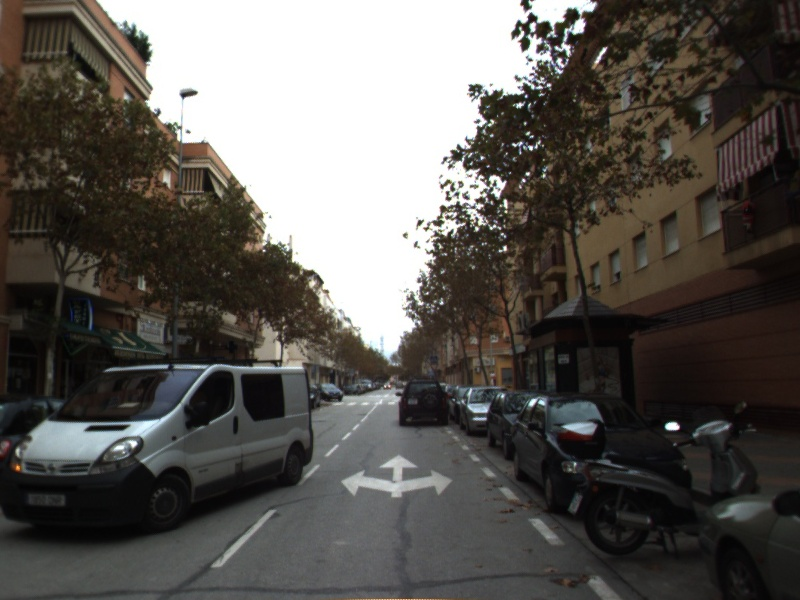STRAIGHT_LEFT_RIGHT: (339, 452, 456, 499)
